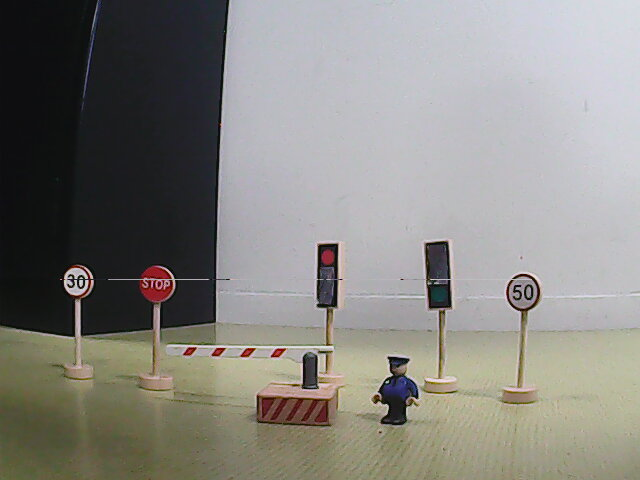barrier: (164, 340, 342, 432)
green_traffic_sign: (423, 238, 453, 310)
person: (369, 353, 424, 428)
red_traffic_sign: (316, 242, 344, 309)
sign_30: (64, 264, 93, 298)
sign_50: (505, 273, 543, 312)
stop_sign: (138, 264, 176, 303)
